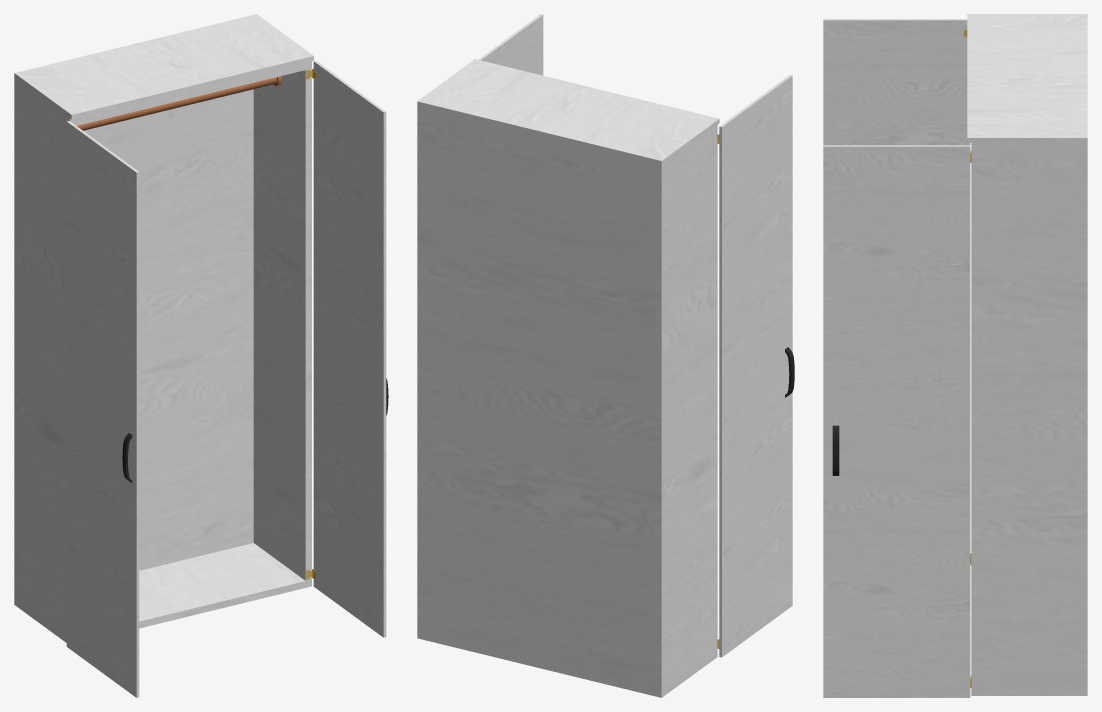
Rendered from Closet46.fbx.
The picture shows the model from 3 angles, left to right: view 1: azimuth 30°, elevation 25°; view 2: azimuth 150°, elevation 25°; view 3: azimuth 270°, elevation 25°; orthographic projection. The views are drawn at different scales.
Visible parts, largest first — view 1: Closet46, Closet46DoorR, Closet46DoorL; view 2: Closet46, Closet46DoorL, Closet46DoorR; view 3: Closet46DoorR, Closet46, Closet46DoorL.
Part boxes in pixels (x1,y1,x2,y2): Closet46: (14,14,313,642); Closet46DoorR: (312,60,388,637); Closet46DoorL: (66,121,139,697); Closet46: (417,59,719,697); Closet46DoorL: (717,75,794,657); Closet46DoorR: (478,14,543,75); Closet46DoorR: (823,145,971,697); Closet46: (967,14,1087,695); Closet46DoorL: (823,19,971,562).
Bounding box in the file's own units: 122 × 235 × 101.
